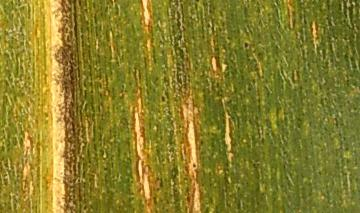tarspot: (157, 91, 168, 105), (241, 38, 252, 52), (189, 159, 200, 171)
